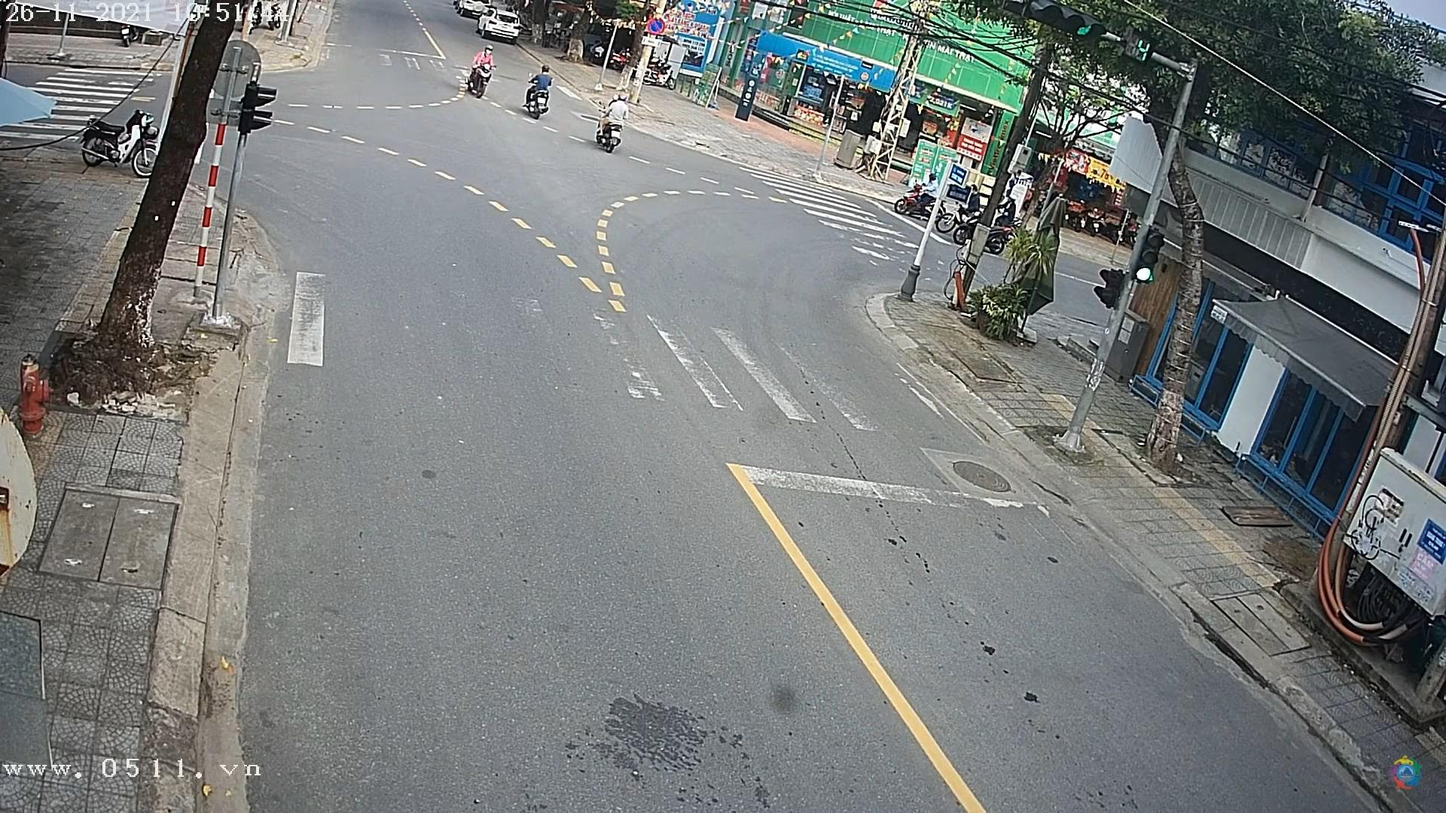motorbike: (593, 104, 626, 151), (526, 79, 555, 119), (465, 59, 493, 100)
